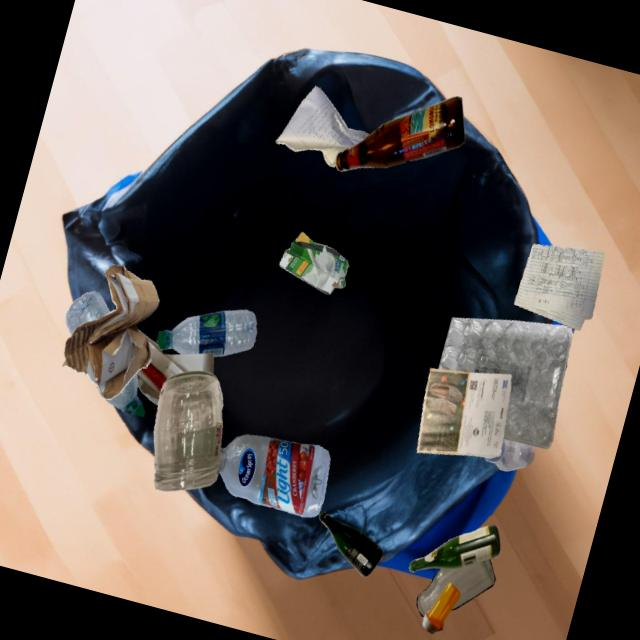cardboard: (62, 264, 159, 399), (279, 232, 348, 294)
glass: (335, 96, 464, 171), (153, 371, 222, 491), (416, 559, 495, 617), (409, 524, 500, 572), (319, 512, 383, 577)
paper: (416, 368, 512, 458), (513, 244, 604, 330), (275, 86, 369, 167), (136, 329, 213, 405)
plastic: (438, 317, 572, 449), (217, 434, 329, 517), (156, 309, 256, 356), (101, 312, 136, 395), (421, 581, 460, 634), (104, 373, 144, 417), (483, 438, 534, 471), (65, 291, 102, 335)
